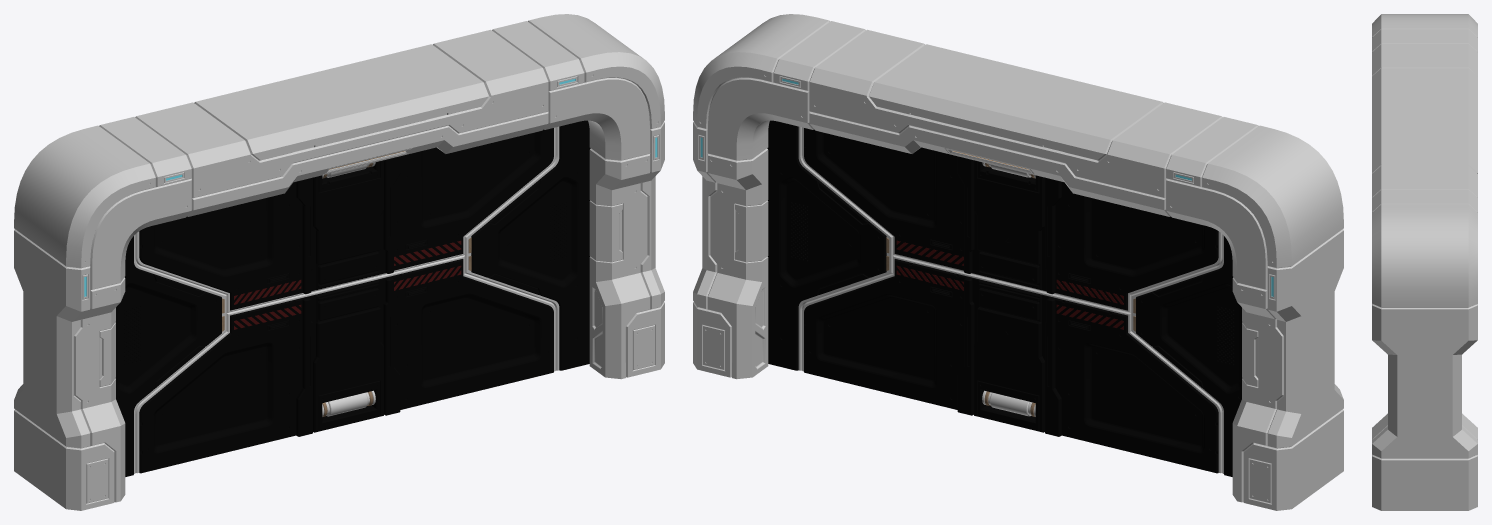
Rendered from Sci-Fi Door Kit Vol 01 Free.fbx.
The picture shows the model from 3 angles, left to right: view 1: azimuth 30°, elevation 25°; view 2: azimuth 150°, elevation 25°; view 3: azimuth 270°, elevation 25°; orthographic projection. The views are drawn at different scales.
Visible parts, largest first — view 1: G07_05, G07_02, G07_01, G07_04, G07_03; view 2: G07_05, G07_02, G07_01, G07_04, G07_03; view 3: G07_05.
Part boxes in pixels (x1=…): G07_05: x1=14, y1=14, x2=664, y2=510; G07_02: x1=135, y1=255, x2=555, y2=473; G07_01: x1=135, y1=127, x2=555, y2=312; G07_04: x1=465, y1=120, x2=590, y2=370; G07_03: x1=115, y1=234, x2=226, y2=476; G07_05: x1=693, y1=14, x2=1343, y2=510; G07_02: x1=802, y1=255, x2=1222, y2=473; G07_01: x1=802, y1=127, x2=1222, y2=312; G07_04: x1=767, y1=120, x2=892, y2=370; G07_03: x1=1131, y1=234, x2=1242, y2=476; G07_05: x1=1372, y1=14, x2=1477, y2=510.
Size of the model in its own units: 984 by 511 by 180.
